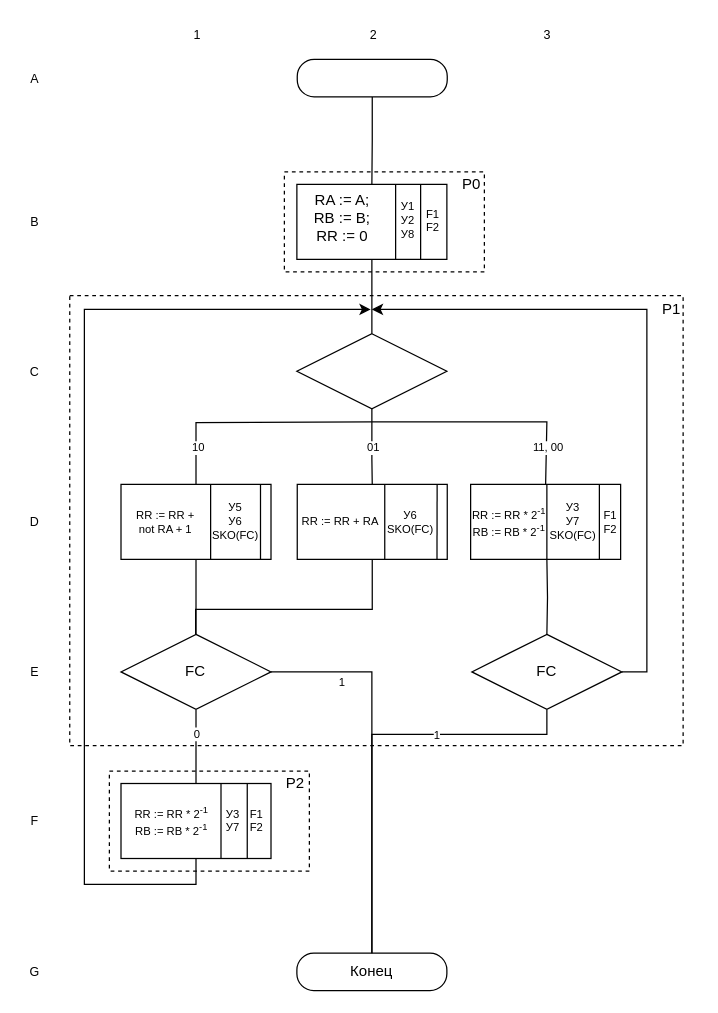
Some shapes in this 718 by 1013 pixel diagram are drawn without their labels. Here are the shapes that lost their labels. From the top down, the centre of each, then its label:
At point 371,77: "Начало".
At point 371,370: "F1F2".
